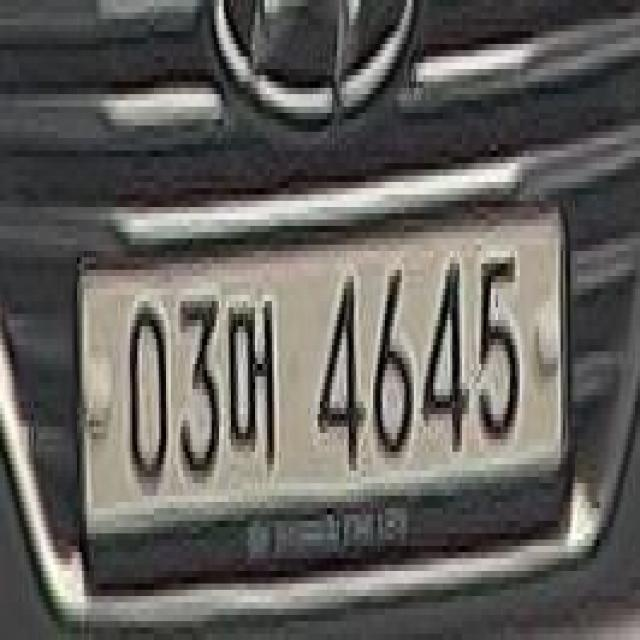illegal_plate: (79, 204, 572, 583)
